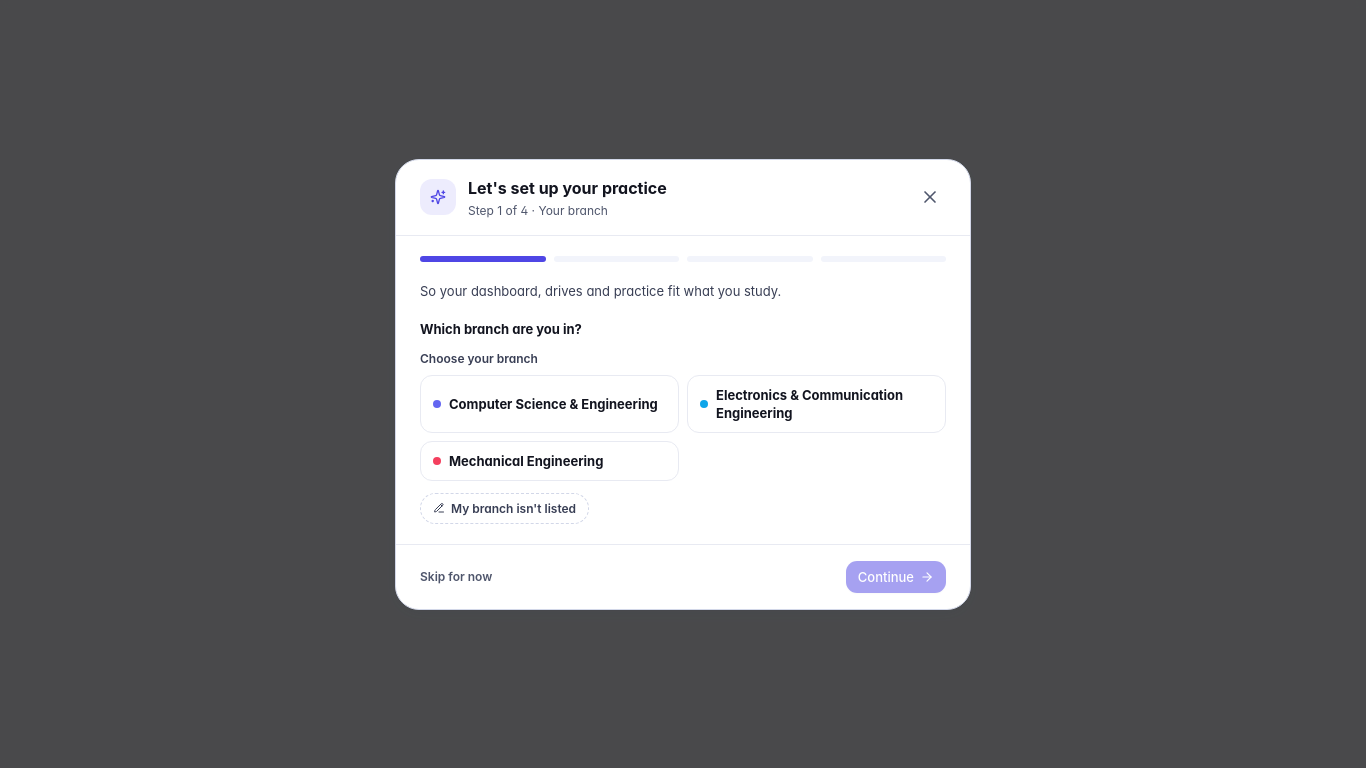
Test: wizard with the branch step › asks first, lists the branches straight away, and will not continue until one is picked
Expected: the text "Step 1 of 4 · Your branch" is shown, [468,202,608,218]
Expected: the radio button labelled "Computer Science & Engineering" is shown, [420,374,679,432]
Step 1. Click the radio button labelled "Mechanical Engineering" → (550, 460), box [420,440,679,480]
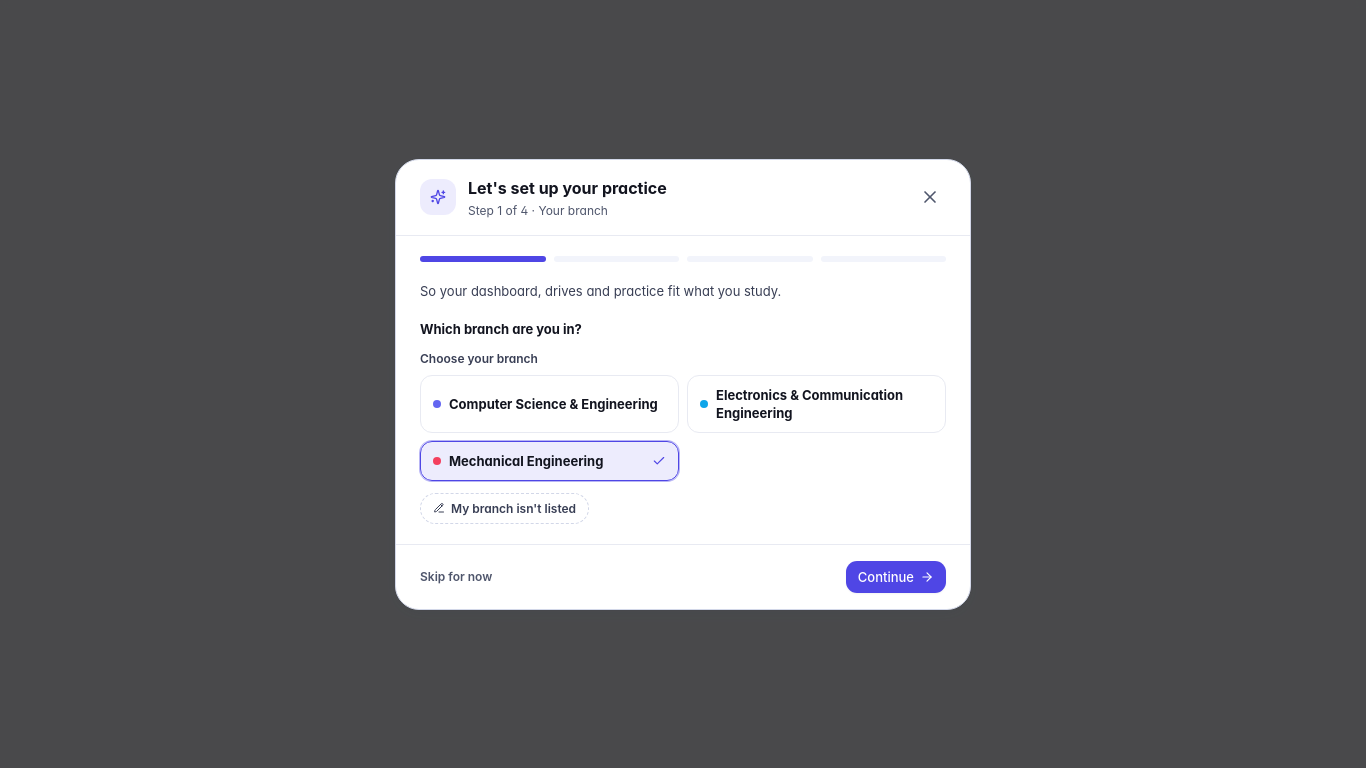
Expected: the button "Continue" is enabled, [846,560,946,592]
